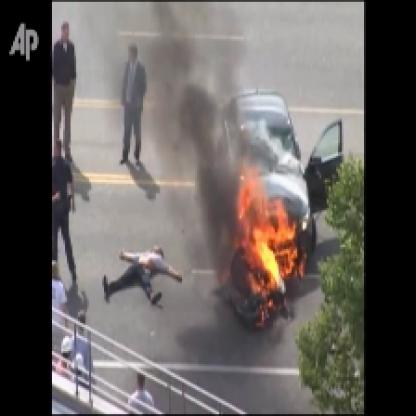Fire: (223, 148, 299, 330)
Smoke: (138, 2, 240, 265)
